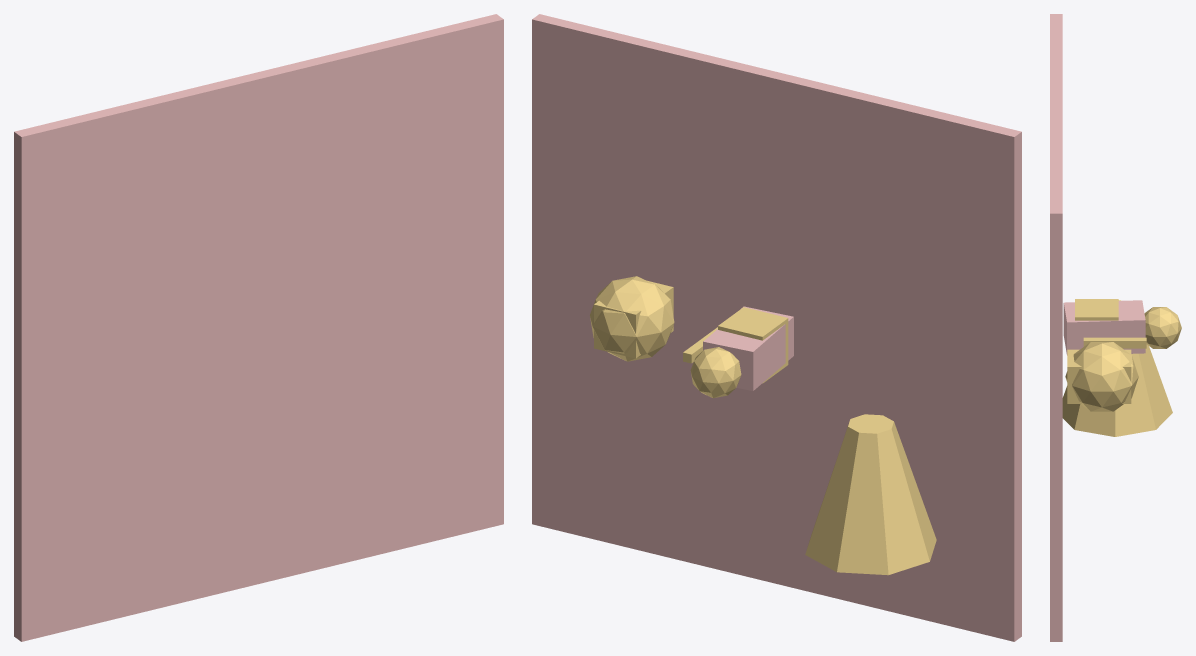
File: cyber-noir-2088-kit.glb
3 renders of one model, left to right at view 1: azimuth 30°, elevation 25°; view 2: azimuth 150°, elevation 25°; view 3: azimuth 270°, elevation 25°, orthographic. The views are drawn at different scales.
Visible parts, largest first — view 1: ENVIRONMENT_GROUND; view 2: ENVIRONMENT_GROUND, ENVIRONMENT_LANDMARK, OBSTACLE, PLAYER_BODY, PLAYER_HEAD, PROFILE_PLAYER_DETAIL, PROFILE_OBSTACLE_DETAIL; view 3: ENVIRONMENT_GROUND, ENVIRONMENT_LANDMARK, OBSTACLE, PLAYER_BODY, PLAYER_HEAD, PROFILE_PLAYER_DETAIL, PROFILE_OBSTACLE_DETAIL, PLAYER_TOOL.
Part boxes in pixels (x1,y1,x2,y2): ENVIRONMENT_GROUND: [14, 14, 503, 641]; ENVIRONMENT_GROUND: [532, 14, 1021, 641]; ENVIRONMENT_LANDMARK: [805, 414, 936, 575]; OBSTACLE: [590, 276, 674, 361]; PLAYER_BODY: [703, 306, 793, 390]; PLAYER_HEAD: [690, 347, 741, 398]; PROFILE_PLAYER_DETAIL: [718, 307, 788, 383]; PROFILE_OBSTACLE_DETAIL: [594, 280, 673, 358]; ENVIRONMENT_GROUND: [1050, 14, 1062, 641]; ENVIRONMENT_LANDMARK: [1062, 300, 1172, 436]; OBSTACLE: [1065, 342, 1138, 411]; PLAYER_BODY: [1063, 300, 1145, 355]; PLAYER_HEAD: [1144, 307, 1181, 348]; PROFILE_PLAYER_DETAIL: [1075, 299, 1118, 320]; PROFILE_OBSTACLE_DETAIL: [1067, 349, 1131, 403]; PLAYER_TOOL: [1083, 337, 1146, 348].
Size of what is drawn, in the model's own units: 9 by 9 by 2.51.
